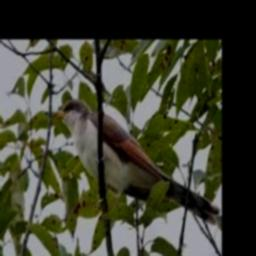Cuckoo: (48, 98, 219, 226)
